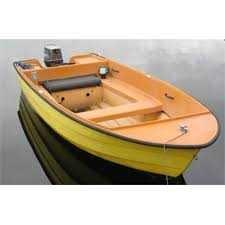kayak: (12, 51, 219, 178)
